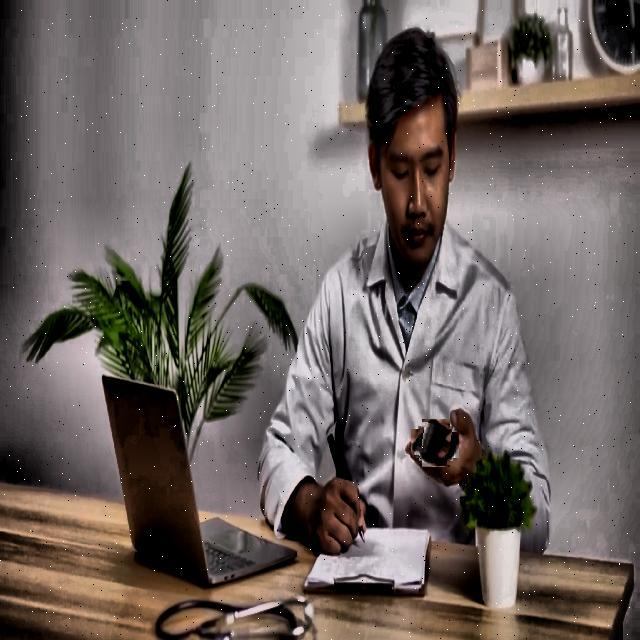Phone: (415, 423, 456, 464)
